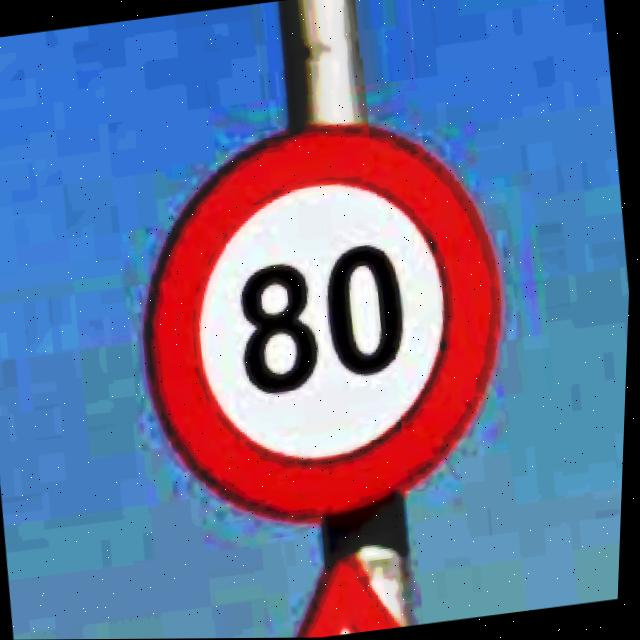max80: (113, 100, 533, 543)
